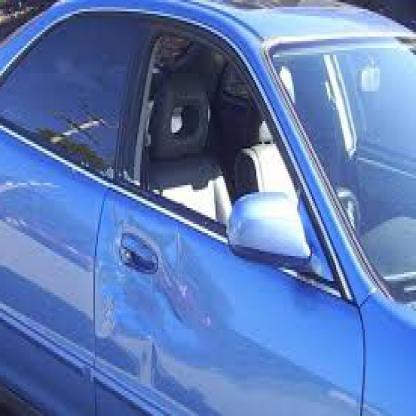dent: (154, 244, 202, 330), (136, 338, 165, 391)
